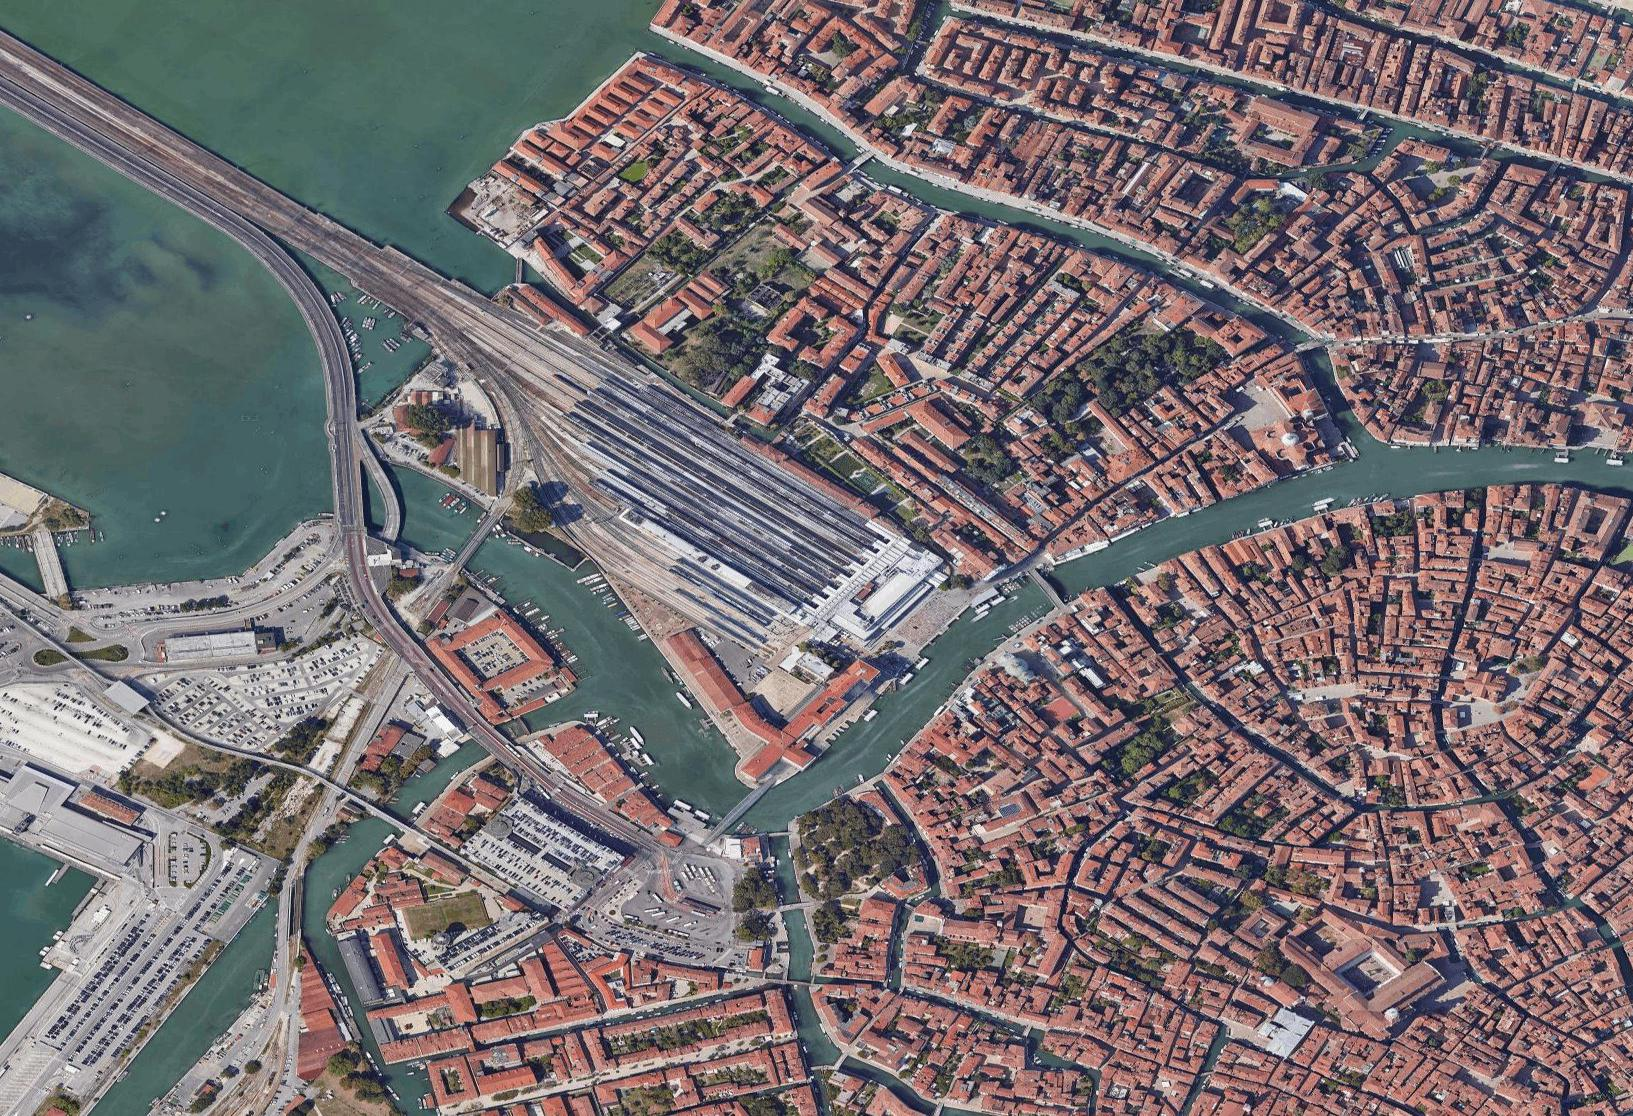bridge: (27, 523, 74, 598), (445, 513, 500, 565), (271, 879, 306, 952), (361, 799, 418, 834), (1022, 566, 1068, 607), (1295, 330, 1329, 355), (845, 146, 876, 173)
train_station: (472, 320, 934, 703)
